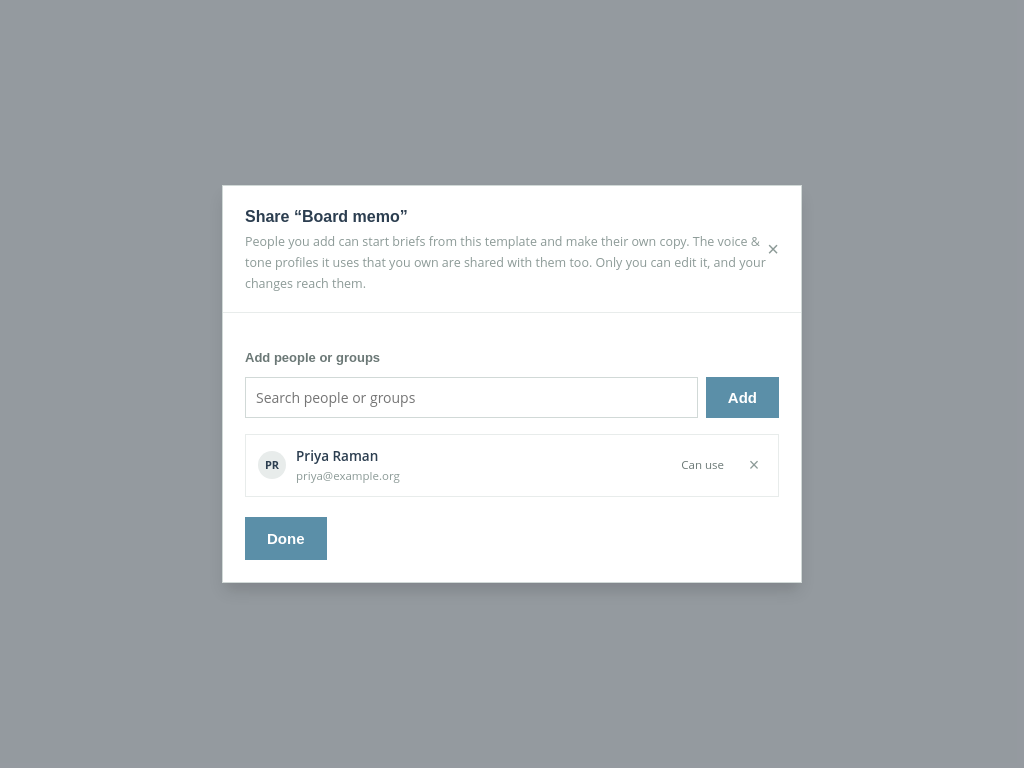
sharing a template or voice › lists, adds and removes people and groups, reporting the new count
This screenshot has width=1024, height=768.
Expected: the text "Priya Raman" is shown, [296,447,378,465]
Expected: the text "Share “Board memo”" is shown, [245,208,408,225]
Type "OEV team" into the dropdown with placeholder "Search people or groups" at (471, 397), box [245,377,698,418]
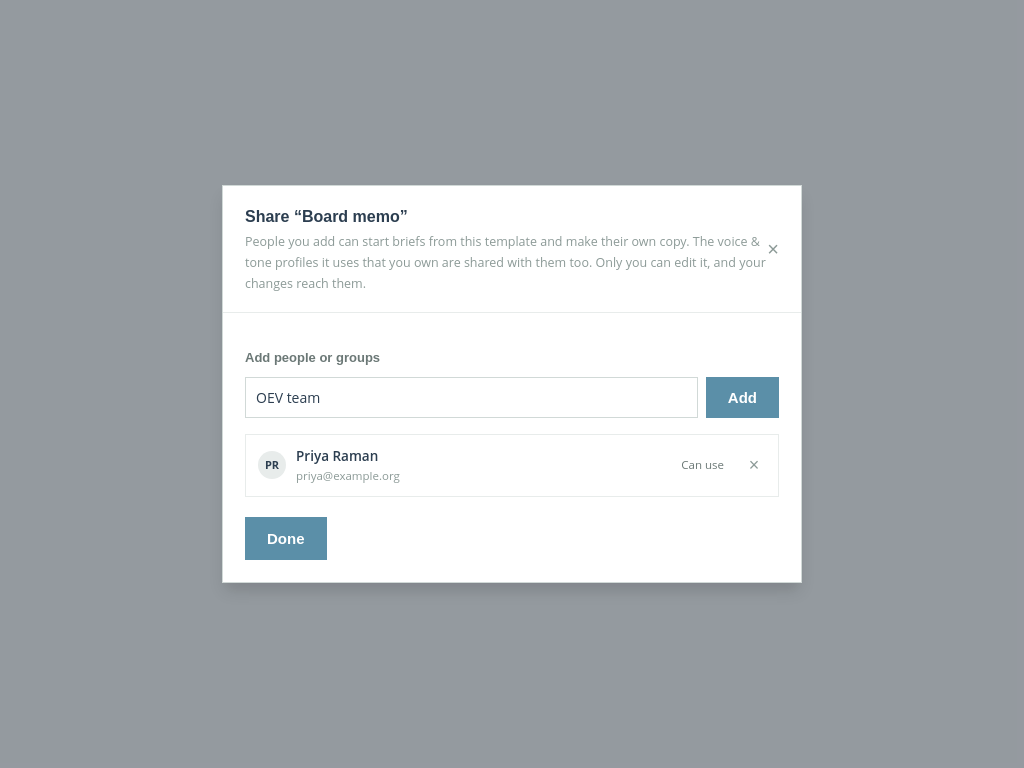
Click the button "Add" at (742, 397), box [706,377,779,418]
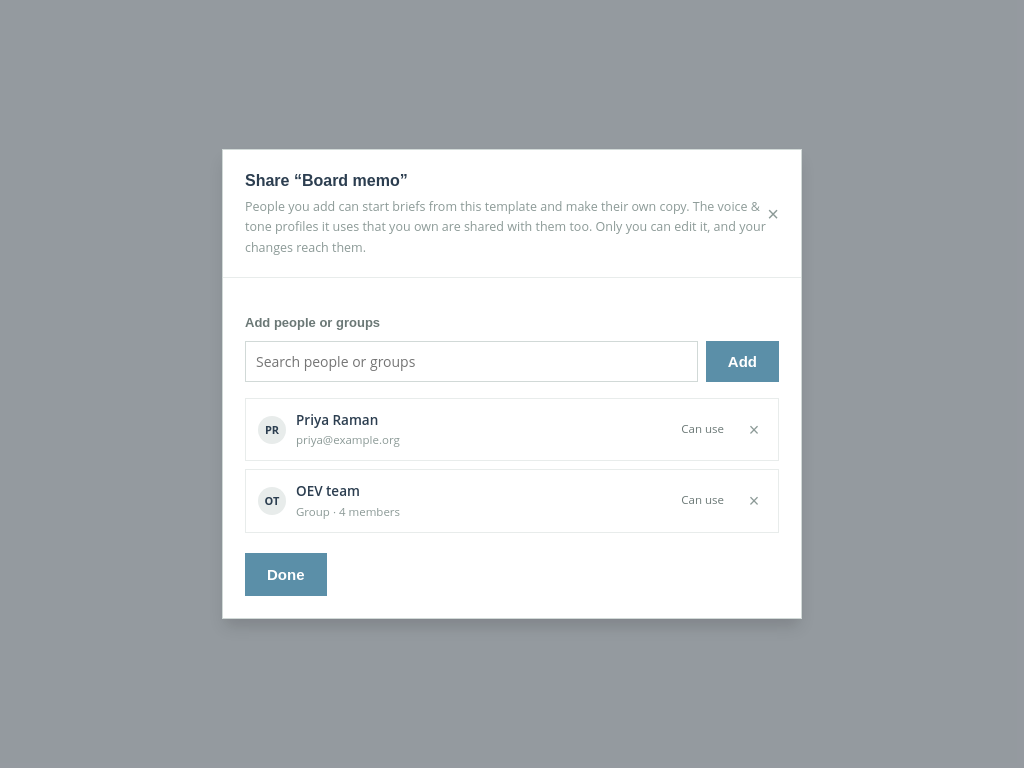
Expected: the text "OEV team" is shown, [296,482,360,500]
Click the button named "Remove access for Priya Raman" at (754, 430), box [742,417,766,443]
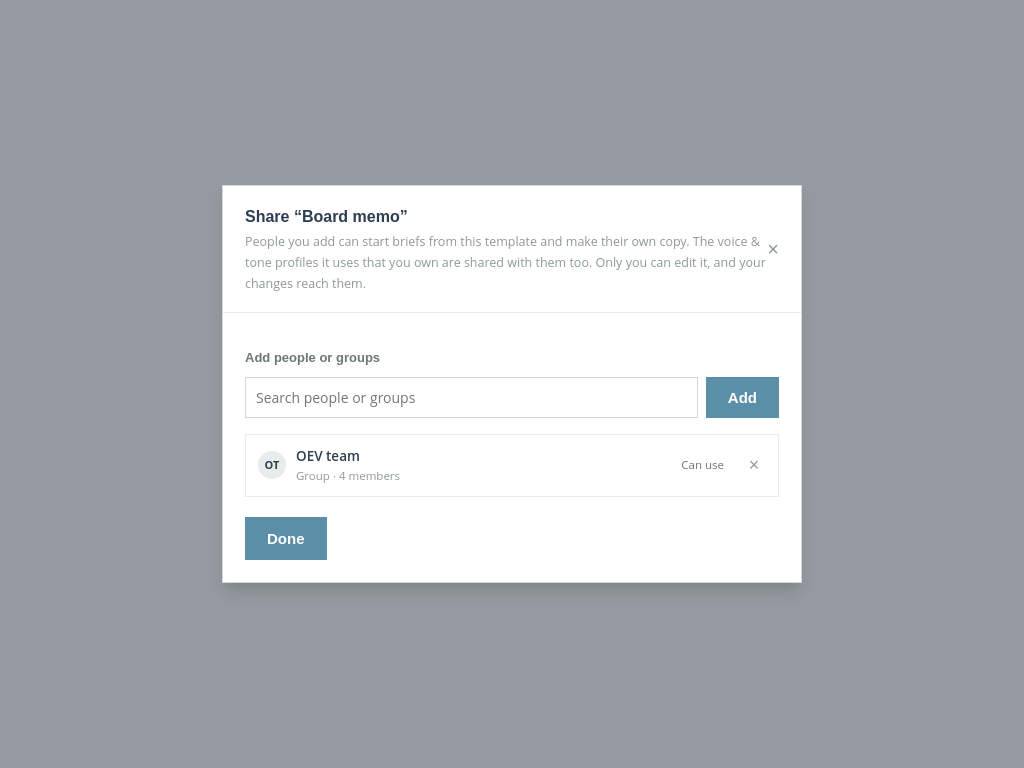
Expected: the text "Priya Raman" is gone
